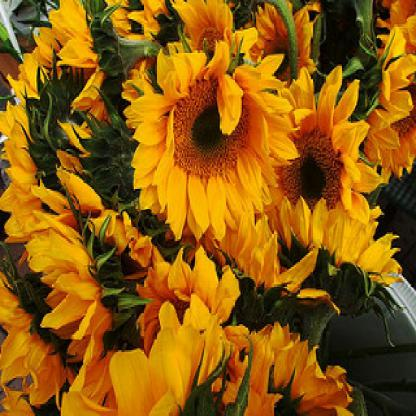SUN FLOWER: (15, 8, 404, 405)
